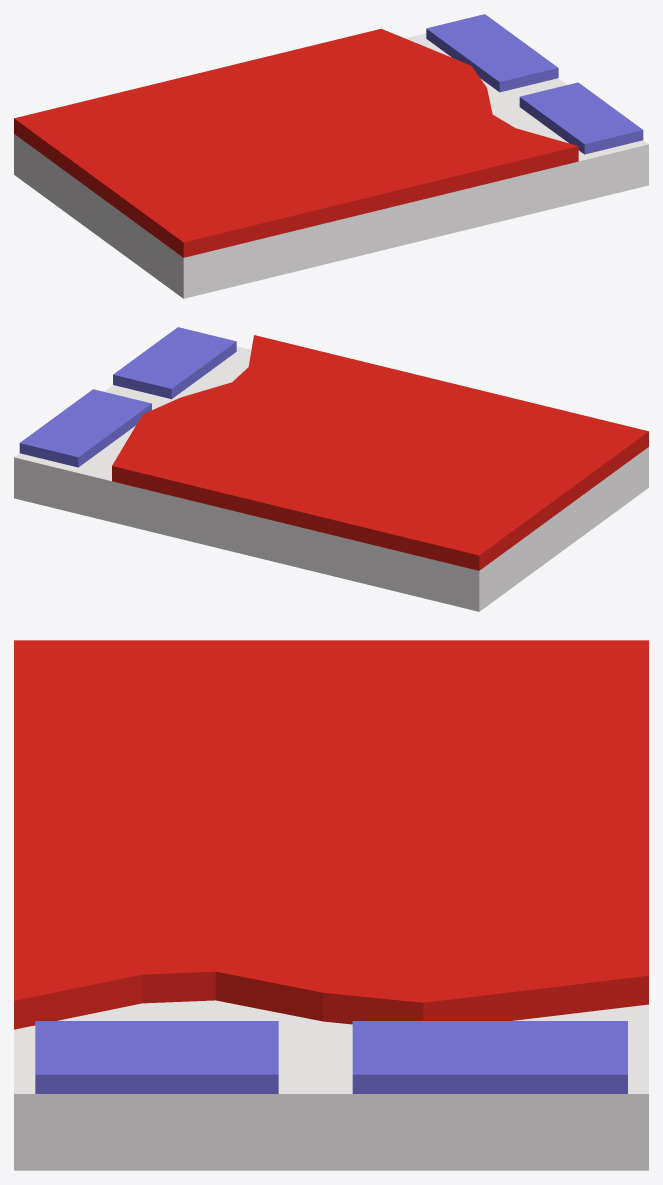
The model's file is bed.fbx.
The picture shows the model from 3 angles, top to bottom: view 1: azimuth 30°, elevation 25°; view 2: azimuth 150°, elevation 25°; view 3: azimuth 270°, elevation 25°; orthographic projection. The views are drawn at different scales.
Parts seen in each view (by area): view 1: bed; view 2: bed; view 3: bed.
Part boxes in pixels (bbox=[...]): bed: bbox=[14, 14, 648, 298]; bed: bbox=[14, 327, 648, 611]; bed: bbox=[14, 640, 648, 1170].
Bounding box in the file's own units: 950 × 110 × 600.
